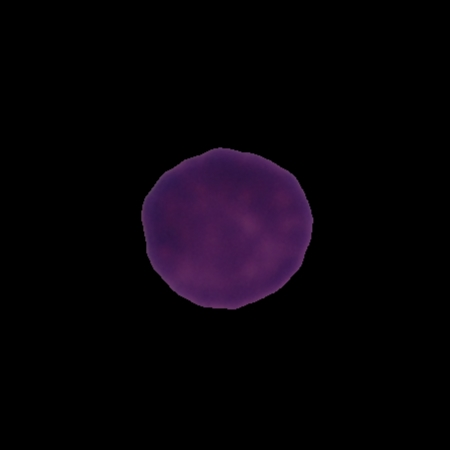HEM: (138, 143, 316, 311)
